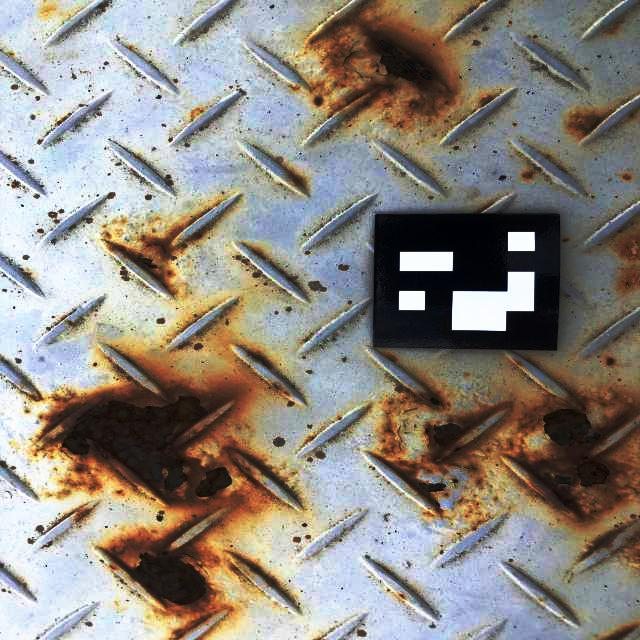Corrosion: (62, 397, 234, 506), (527, 395, 640, 518), (343, 33, 456, 115), (160, 440, 254, 508), (315, 16, 374, 106), (135, 541, 206, 606), (378, 454, 455, 512), (100, 387, 217, 414), (420, 417, 482, 462), (43, 399, 106, 442), (110, 536, 162, 587), (60, 457, 107, 493), (163, 588, 214, 620), (450, 438, 484, 484), (382, 402, 407, 459), (194, 468, 232, 498), (121, 252, 161, 278), (140, 234, 172, 259), (573, 107, 602, 134), (598, 622, 640, 640), (420, 392, 446, 410), (246, 354, 265, 366), (272, 383, 290, 395), (451, 478, 459, 484)
